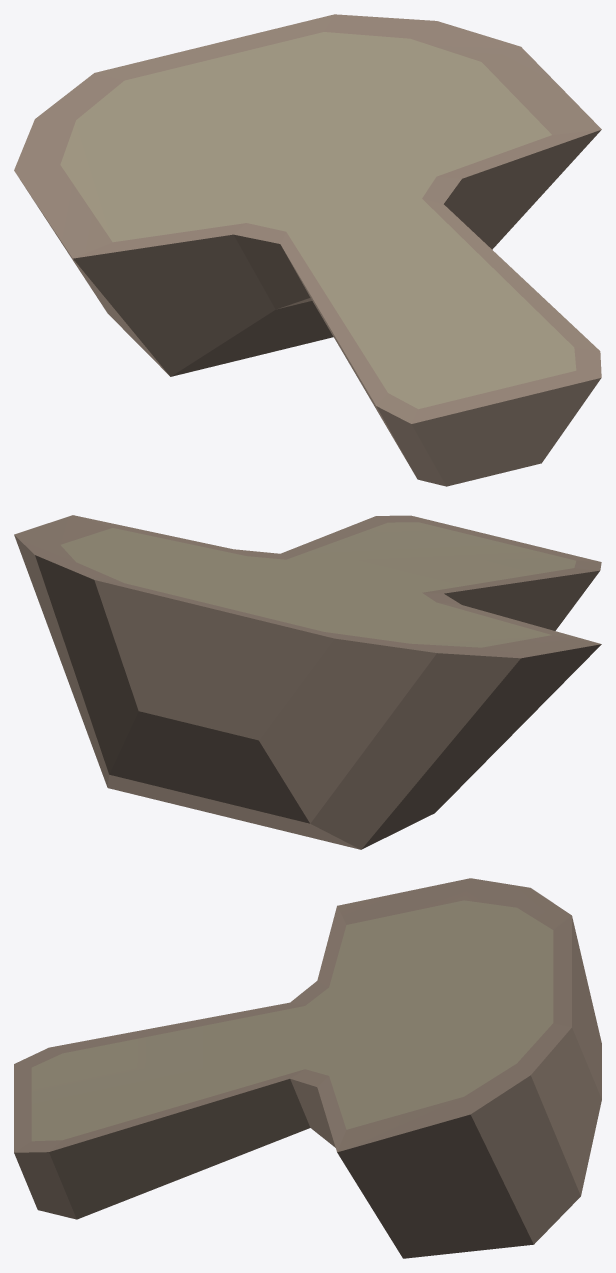
File: Mushroom_Sliced.glb
3 renders of one model, top to bottom at view 1: azimuth 30°, elevation 25°; view 2: azimuth 150°, elevation 25°; view 3: azimuth 270°, elevation 25°, orthographic. The views are drawn at different scales.
Visible parts, largest first — view 1: Mushroom_Slice; view 2: Mushroom_Slice; view 3: Mushroom_Slice.
Part boxes in pixels (x1,y1,x2,y2): Mushroom_Slice: (14, 14, 601, 486); Mushroom_Slice: (14, 515, 601, 849); Mushroom_Slice: (14, 878, 601, 1258).
Size of the model in its own units: 0.4134 by 0.1765 by 0.4166.
